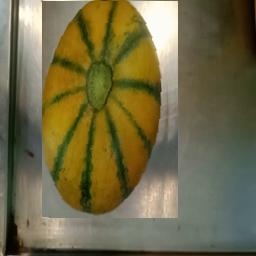Melon Fresh: (42, 2, 178, 219)
